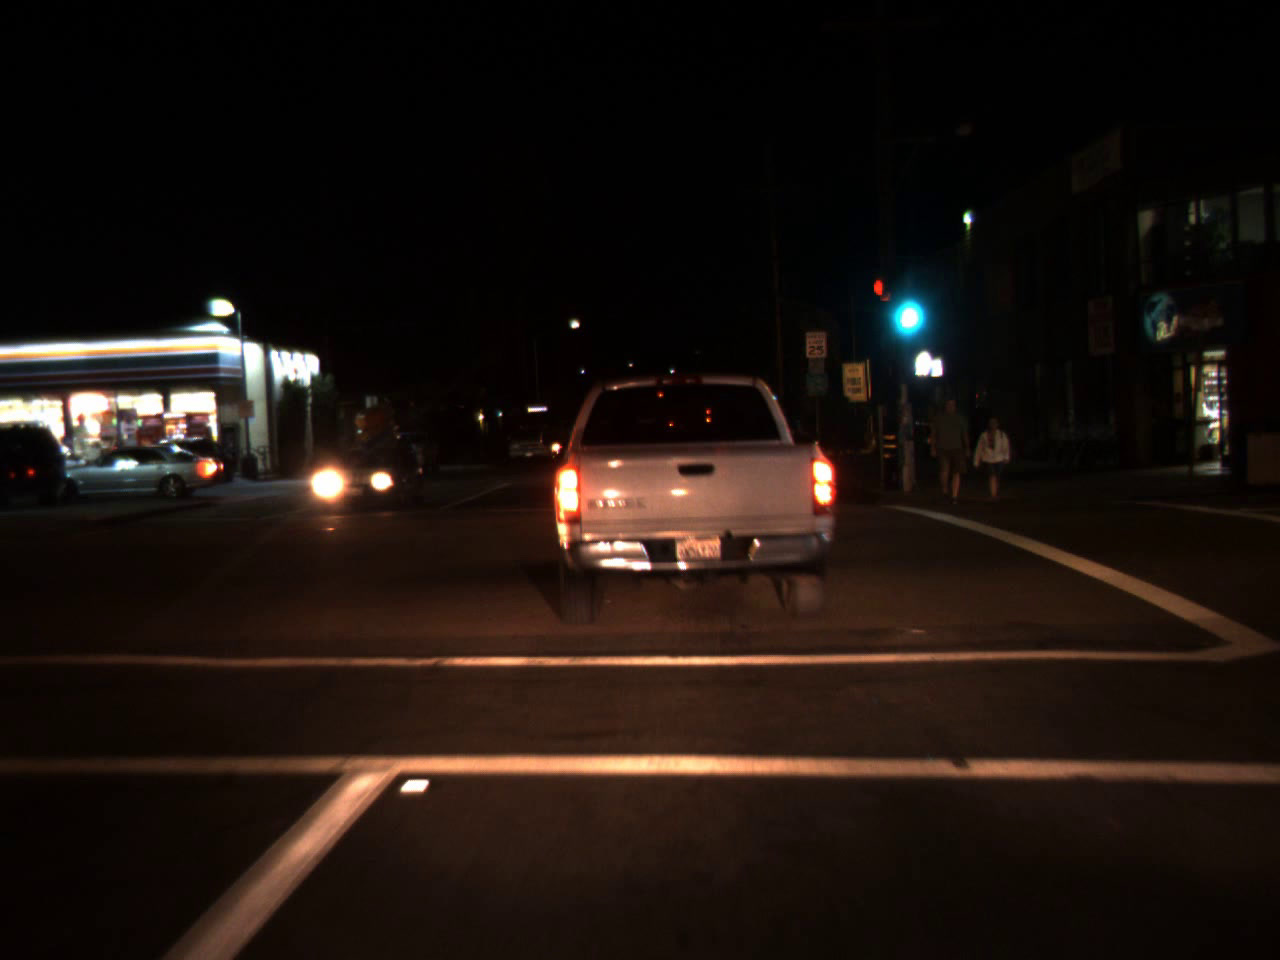go: (883, 264, 928, 342)
